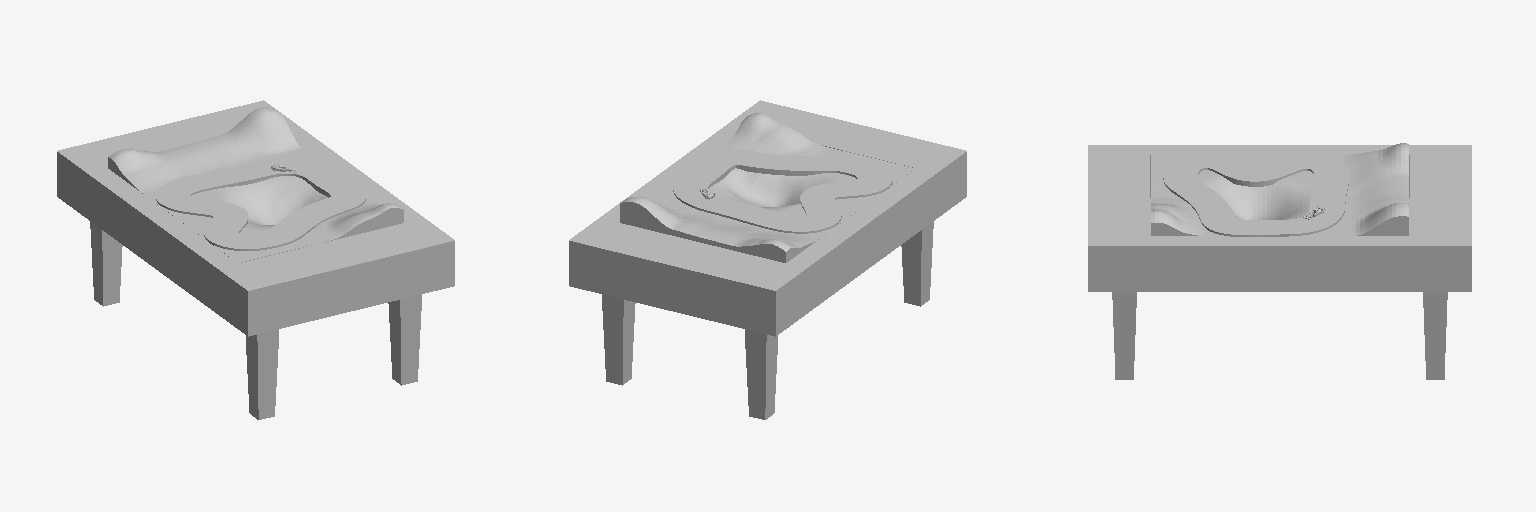
Rendered from NewestTisch13.obj.
3 renders of one model, left to right at view 1: azimuth 30°, elevation 25°; view 2: azimuth 150°, elevation 25°; view 3: azimuth 270°, elevation 25°, orthographic.
Visible parts, largest first — view 1: Tischplatte_wood_table_001, Landschaft_aerial_grass_rock, off, Bein1_wood_table_001, Bein4_wood_table_001.003, Bein3_wood_table_001.002; view 2: Tischplatte_wood_table_001, Landschaft_aerial_grass_rock, off, Bein2_wood_table_001.001, Bein3_wood_table_001.002, Bein4_wood_table_001.003; view 3: Tischplatte_wood_table_001, Landschaft_aerial_grass_rock, off, Bein1_wood_table_001, Bein2_wood_table_001.001.
Boxes of the visible parts, box(x1,y1,x2,y2) form: Tischplatte_wood_table_001: box(57, 100, 454, 336); Landschaft_aerial_grass_rock: box(108, 107, 403, 262); off: box(156, 159, 365, 250); Bein1_wood_table_001: box(388, 294, 421, 385); Bein4_wood_table_001.003: box(246, 329, 278, 419); Bein3_wood_table_001.002: box(90, 221, 122, 306); Tischplatte_wood_table_001: box(569, 100, 966, 336); Landschaft_aerial_grass_rock: box(620, 113, 915, 262); off: box(673, 150, 892, 233); Bein2_wood_table_001.001: box(602, 294, 635, 385); Bein3_wood_table_001.002: box(745, 329, 777, 419); Bein4_wood_table_001.003: box(901, 221, 933, 306); Tischplatte_wood_table_001: box(1088, 145, 1471, 291); Landschaft_aerial_grass_rock: box(1151, 143, 1408, 235); off: box(1163, 153, 1348, 236); Bein1_wood_table_001: box(1112, 292, 1136, 379); Bein2_wood_table_001.001: box(1423, 292, 1447, 379).
Bounding box in the file's own units: 5 × 3.91 × 8.